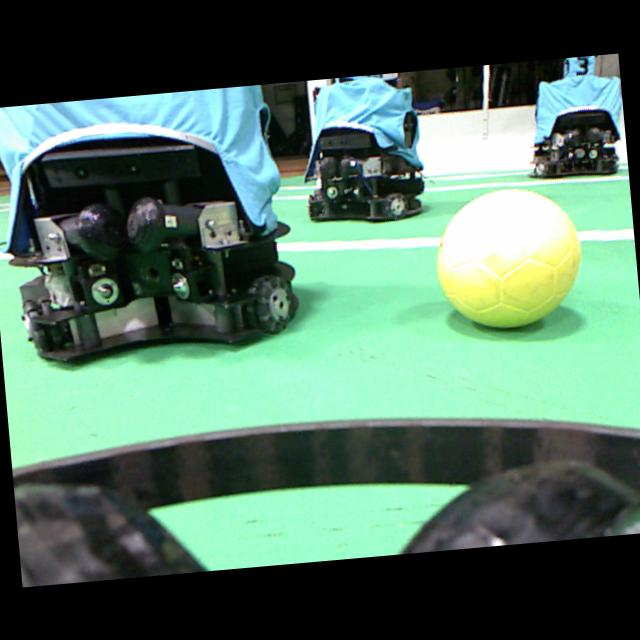ball: (437, 189, 579, 326)
